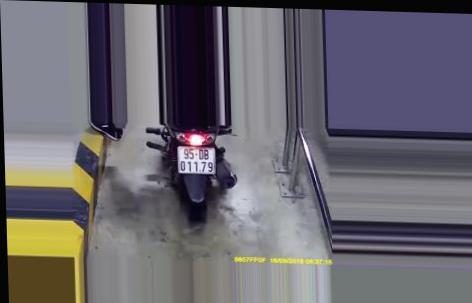License_Plate: (173, 143, 219, 178)
